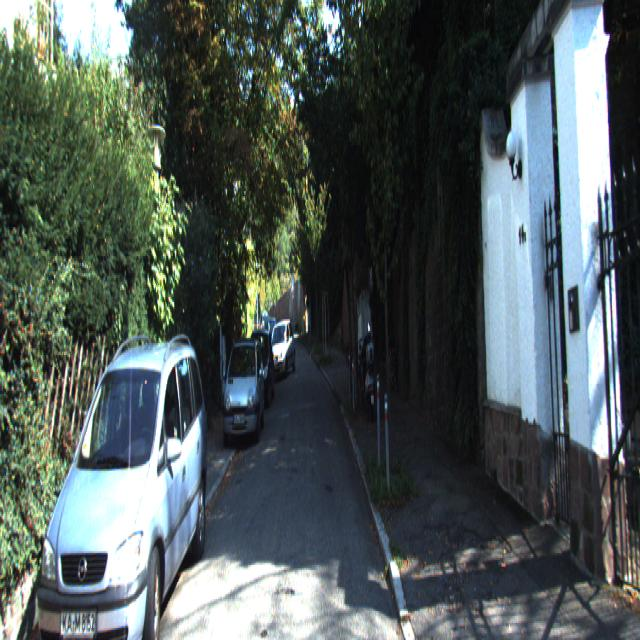Car: (35, 325, 208, 638), (222, 333, 265, 452), (265, 317, 296, 382)
Misc: (362, 314, 376, 415)
